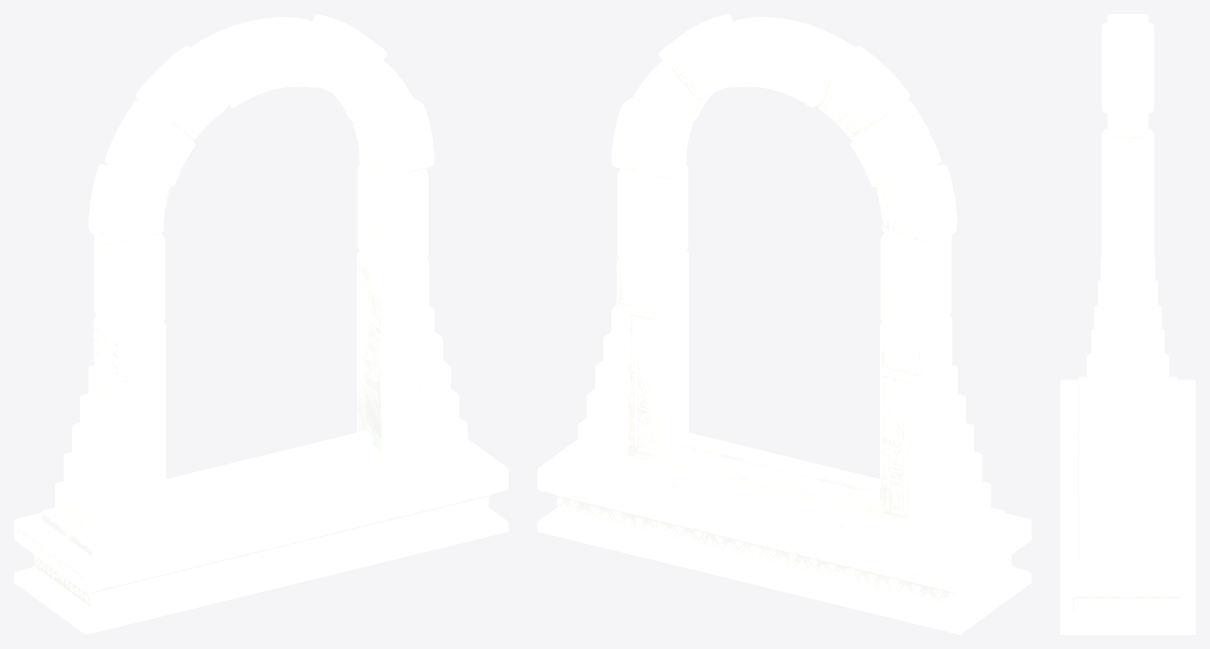
Rendered from portal_frame.glb.
3 views of the same model, side by side, from view 1: azimuth 30°, elevation 25°; view 2: azimuth 150°, elevation 25°; view 3: azimuth 270°, elevation 25° (orthographic). The views are drawn at different scales.
Visible parts, largest first — view 1: PortalFrame; view 2: PortalFrame; view 3: PortalFrame.
Part boxes in pixels (x1,y1,x2,y2): PortalFrame: (14, 14, 508, 634); PortalFrame: (537, 14, 1031, 634); PortalFrame: (1060, 14, 1195, 634).
Size of the model in its own units: 322 by 383 by 94.05.
Materials: 1 (1 with a texture image).
